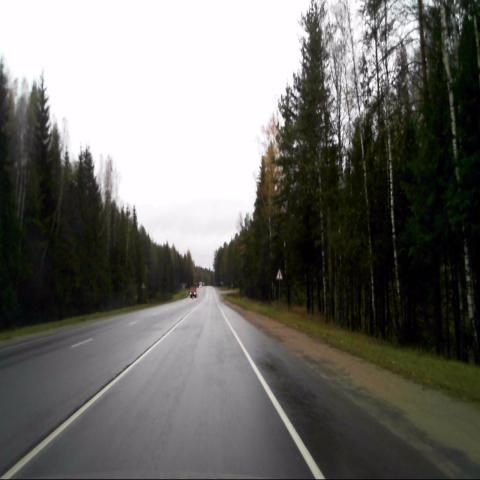2_3_2: (275, 267, 283, 280)
